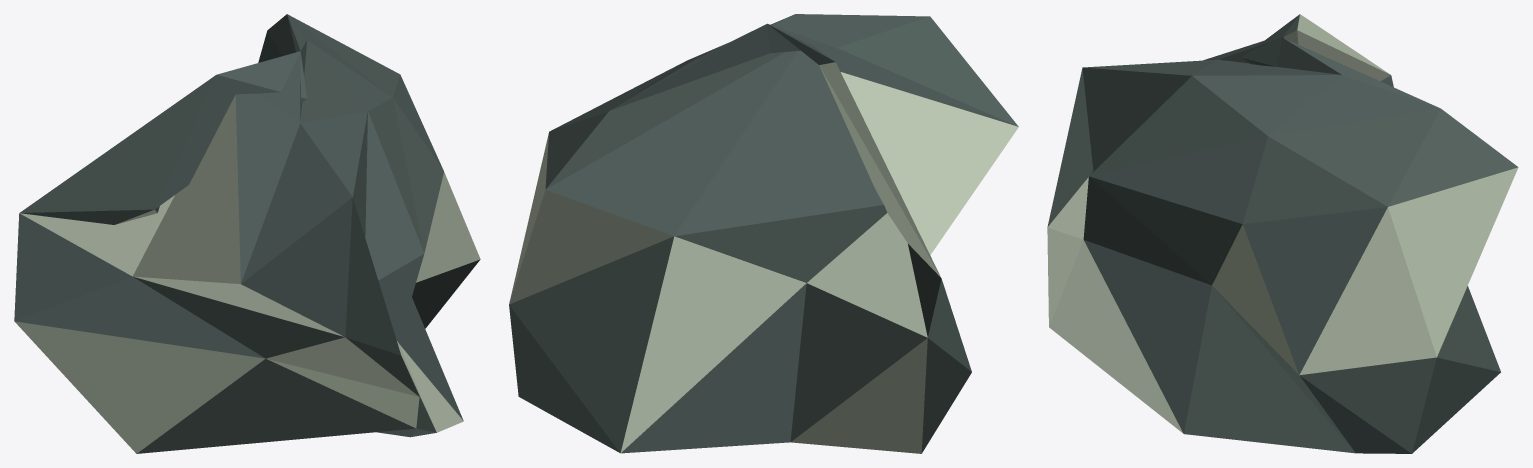
File: Stein_Hintergrund.fbx
3 views of the same model, side by side, from view 1: azimuth 30°, elevation 25°; view 2: azimuth 150°, elevation 25°; view 3: azimuth 270°, elevation 25° (orthographic). The views are drawn at different scales.
Visible parts, largest first — view 1: Icosphere; view 2: Icosphere; view 3: Icosphere.
Boxes of the visible parts, bbox=[...] form: Icosphere: bbox=[14, 14, 480, 453]; Icosphere: bbox=[509, 14, 1018, 453]; Icosphere: bbox=[1047, 14, 1518, 453].
Bounding box in the file's own units: 36.4 × 29.95 × 36.05.
